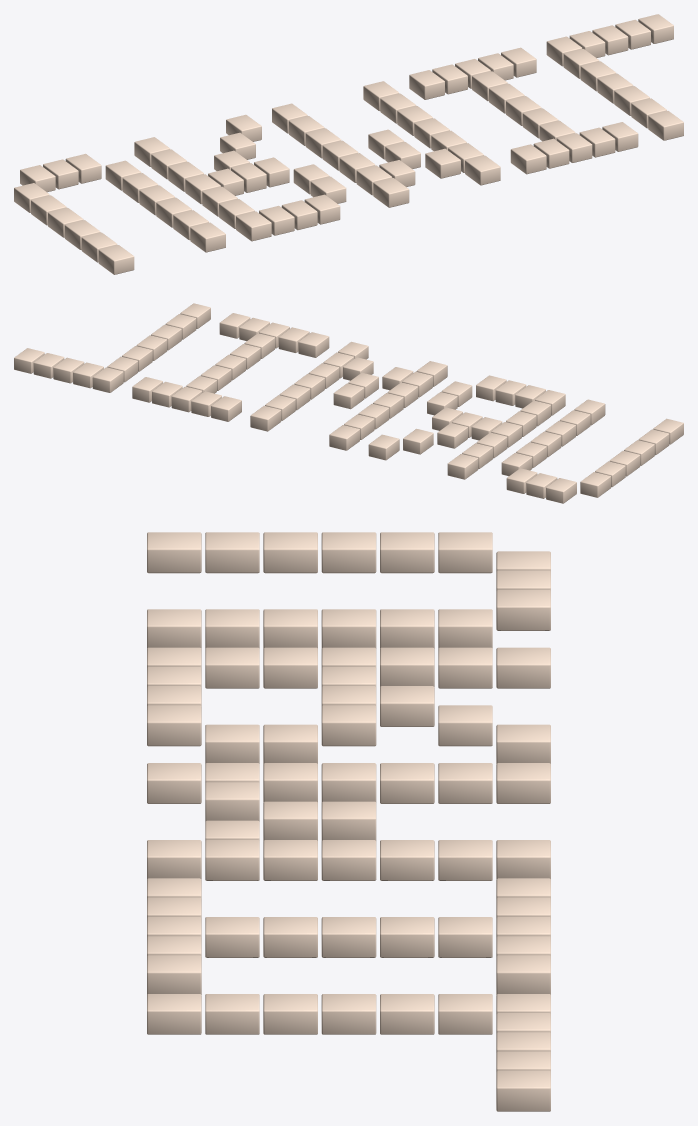
The model's file is bricks.glb.
The picture shows the model from 3 angles, top to bottom: view 1: azimuth 30°, elevation 25°; view 2: azimuth 150°, elevation 25°; view 3: azimuth 270°, elevation 25°; orthographic projection. The views are drawn at different scales.
Visible parts, largest first — view 1: Brick.051, Brick.000, Brick.033, Brick.034, Brick.037, Brick.015, Brick.061, Brick.001, Brick.066, Brick.014, Brick.053, Brick.054 (+65 smaller); view 2: Brick.031, Brick.050, Brick.010, Brick.032, Brick.043, Brick.072, Brick.051, Brick.049, Brick.061, Brick.012, Brick.028, Brick.030 (+65 smaller); view 3: Brick.006, Brick.026, Brick.000, Brick.004, Brick.008, Brick.018, Brick.019, Brick.021, Brick.029, Brick.030, Brick.031, Brick.076 (+65 smaller).
Part boxes in pixels (left/top/right/bottom): Brick.051: left=510, top=144, right=546, bottom=174; Brick.000: left=98, top=245, right=134, bottom=274; Brick.033: left=373, top=178, right=409, bottom=207; Brick.034: left=465, top=155, right=500, bottom=185; Brick.037: left=425, top=148, right=460, bottom=178; Brick.015: left=236, top=211, right=271, bottom=241; Brick.061: left=409, top=70, right=444, bottom=99; Brick.001: left=190, top=222, right=225, bottom=252; Brick.066: left=648, top=111, right=683, bottom=140; Brick.014: left=65, top=153, right=101, bottom=183; Brick.053: left=556, top=133, right=592, bottom=162; Brick.054: left=579, top=127, right=615, bottom=157; Brick.031: left=447, top=454, right=478, bottom=479; Brick.050: left=250, top=405, right=281, bottom=431; Brick.010: left=580, top=472, right=611, bottom=497; Brick.032: left=368, top=434, right=399, bottom=460; Brick.043: left=333, top=383, right=364, bottom=409; Brick.072: left=92, top=367, right=123, bottom=392; Brick.051: left=298, top=332, right=329, bottom=357; Brick.049: left=329, top=425, right=359, bottom=450; Brick.061: left=211, top=396, right=241, bottom=421; Brick.012: left=546, top=478, right=576, bottom=503; Brick.028: left=437, top=423, right=467, bottom=448; Brick.030: left=403, top=428, right=433, bottom=454; Brick.006: left=321, top=532, right=376, bottom=573; Brick.026: left=321, top=705, right=376, bottom=746; Brick.000: left=147, top=532, right=201, bottom=573; Brick.004: left=263, top=532, right=317, bottom=573; Brick.008: left=380, top=532, right=434, bottom=573; Brick.018: left=147, top=705, right=201, bottom=746; Brick.019: left=205, top=647, right=259, bottom=688; Brick.021: left=263, top=647, right=317, bottom=688; Brick.029: left=438, top=647, right=492, bottom=688; Brick.030: left=438, top=705, right=492, bottom=746; Brick.031: left=496, top=647, right=550, bottom=688; Brick.076: left=496, top=1070, right=550, bottom=1111.
Size of the model in its own units: 36.12 by 0.7529 by 11.1.
1 material, 1 textured.
